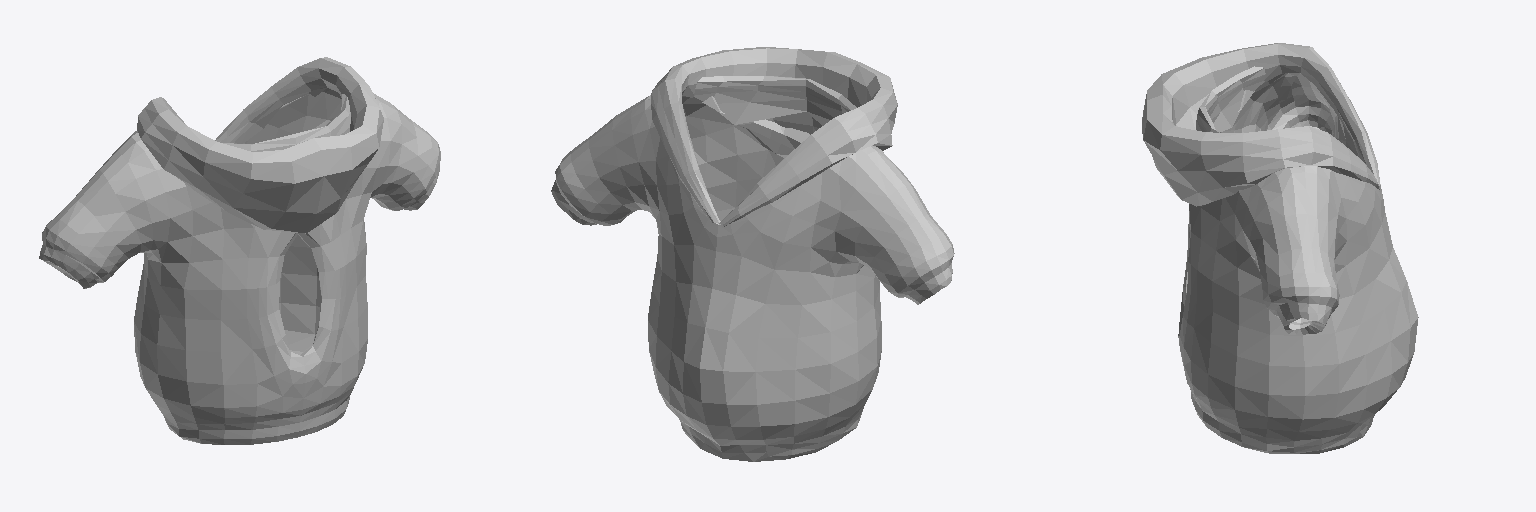
File: Hoodie2.OBJ
3 views of the same model, side by side, from view 1: azimuth 30°, elevation 25°; view 2: azimuth 150°, elevation 25°; view 3: azimuth 270°, elevation 25° (orthographic).
Parts seen in each view (by area): view 1: Group15867; view 2: Group15867; view 3: Group15867.
Part boxes in pixels (x1,y1,x2,y2): Group15867: (39, 57, 440, 444); Group15867: (551, 47, 954, 461); Group15867: (1142, 43, 1418, 453).
Bounding box in the file's own units: 2.21 × 1.8 × 1.33.